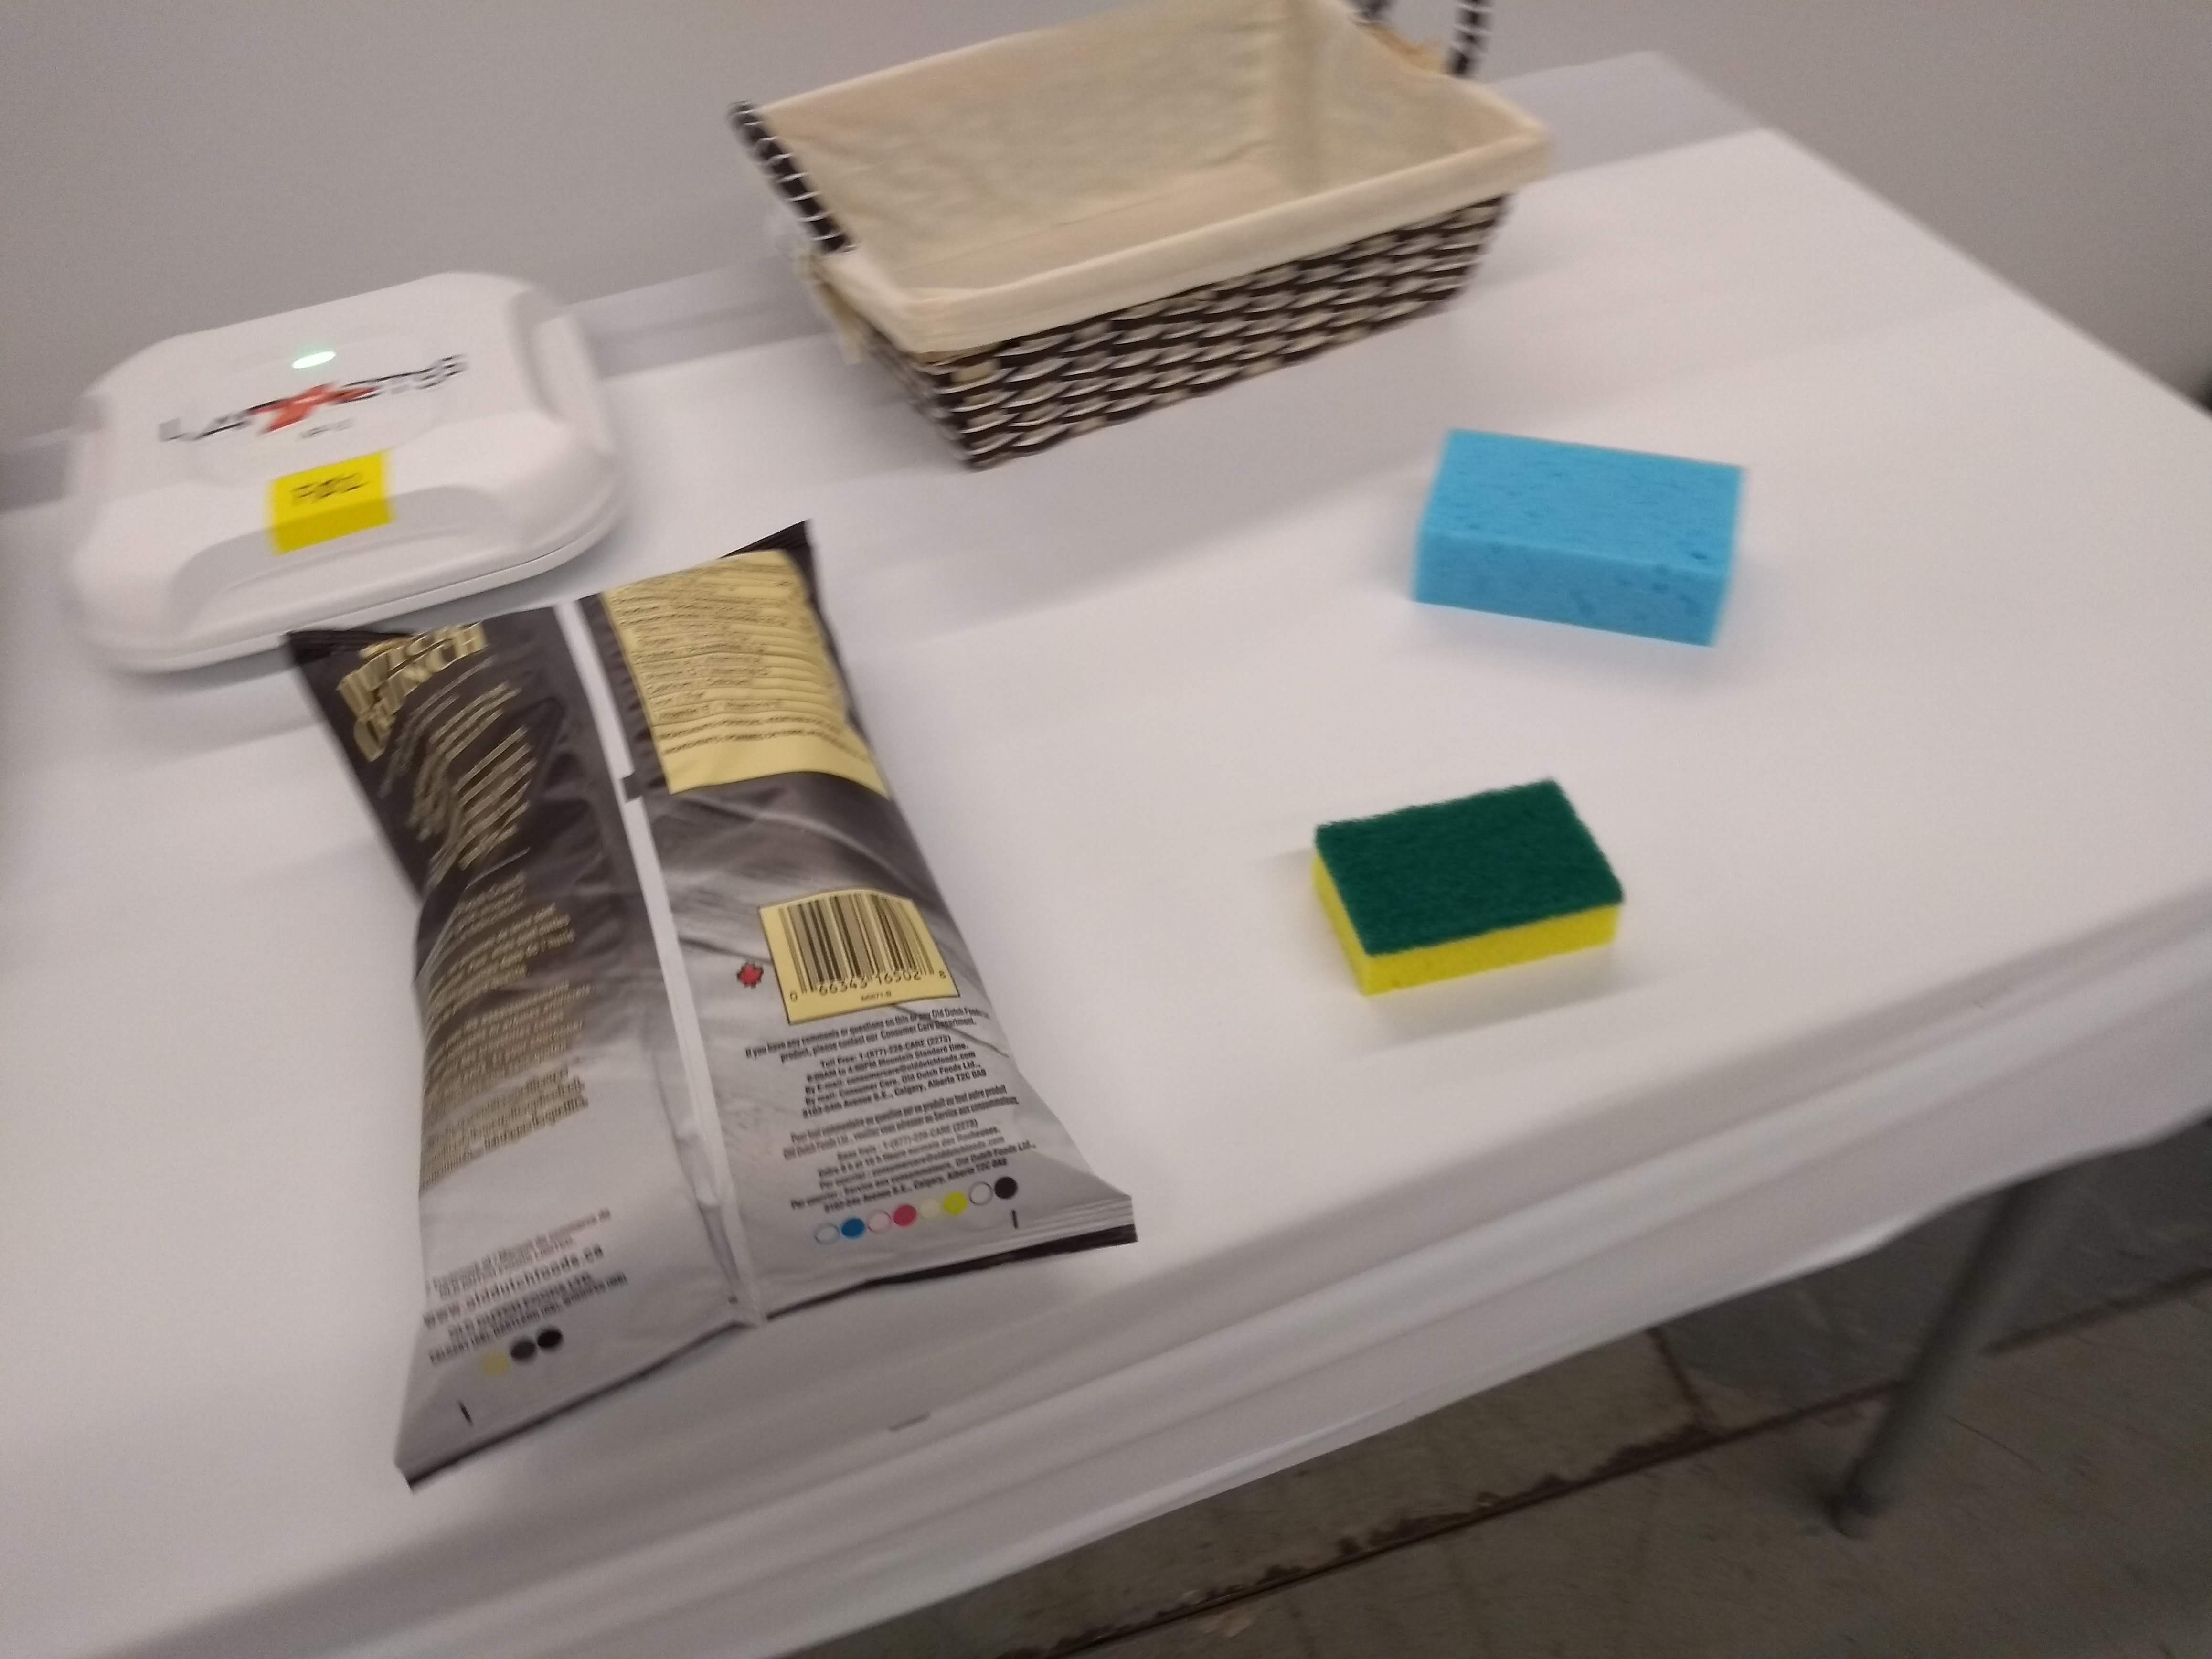potato_chips: (273, 507, 1150, 1499)
scrubby: (1306, 762, 1646, 1007)
sponge_opl: (1393, 425, 1768, 655)
